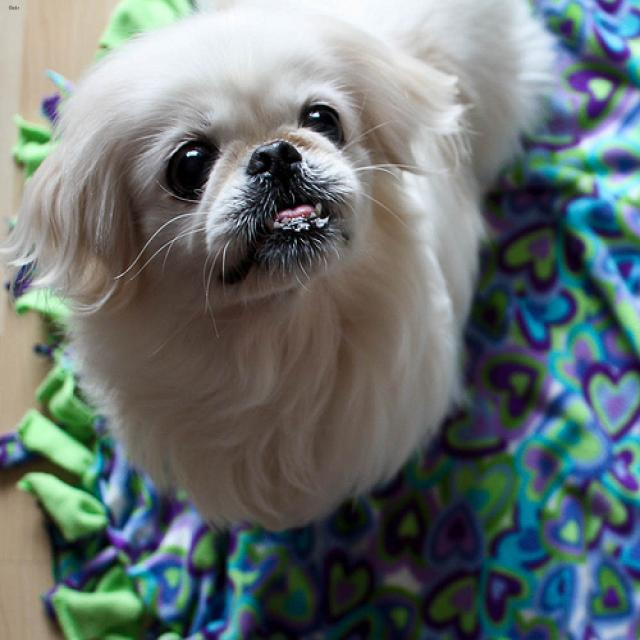dog-japanese_chin: (1, 1, 564, 542)
